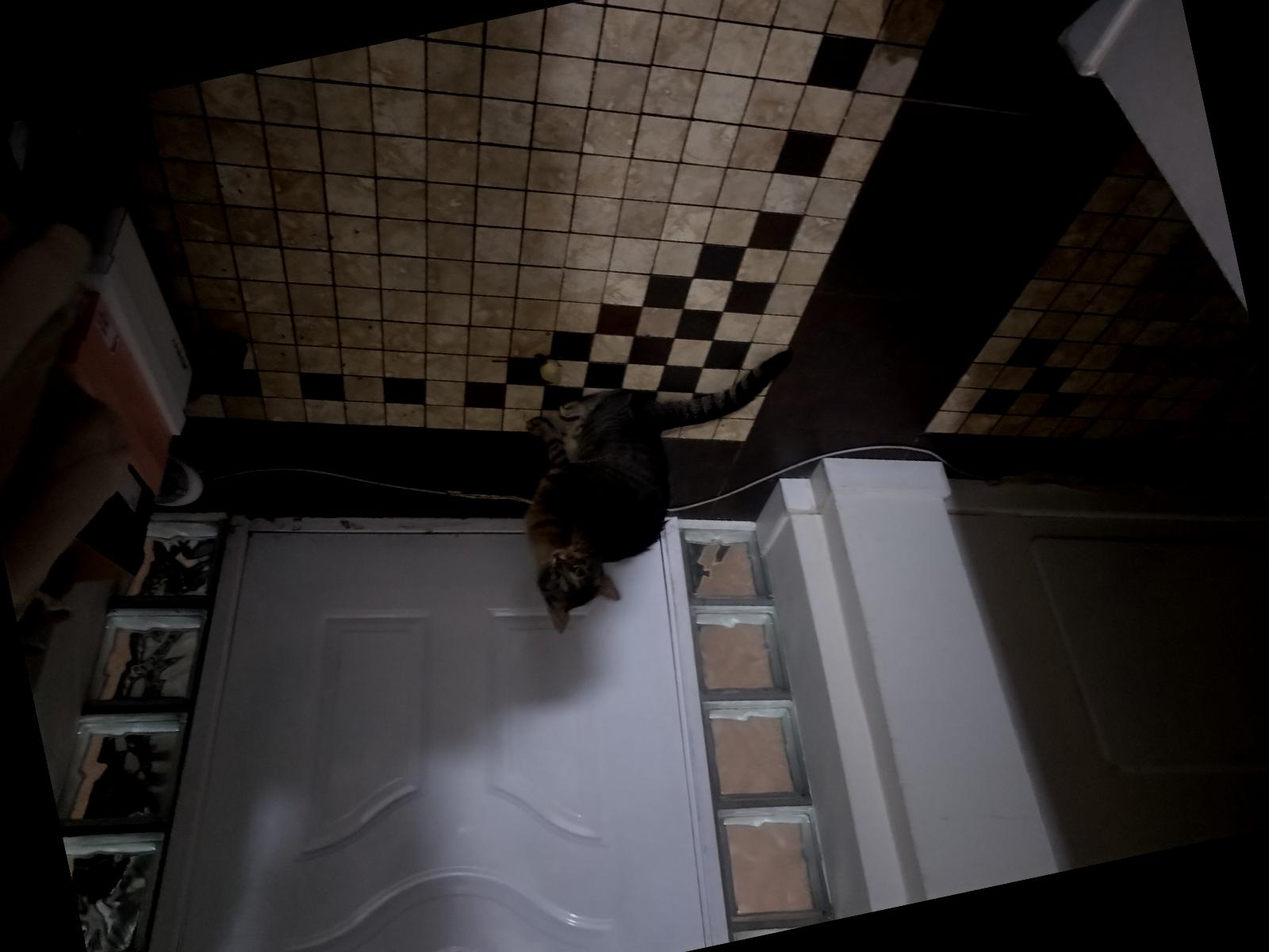macka: (498, 351, 838, 638)
